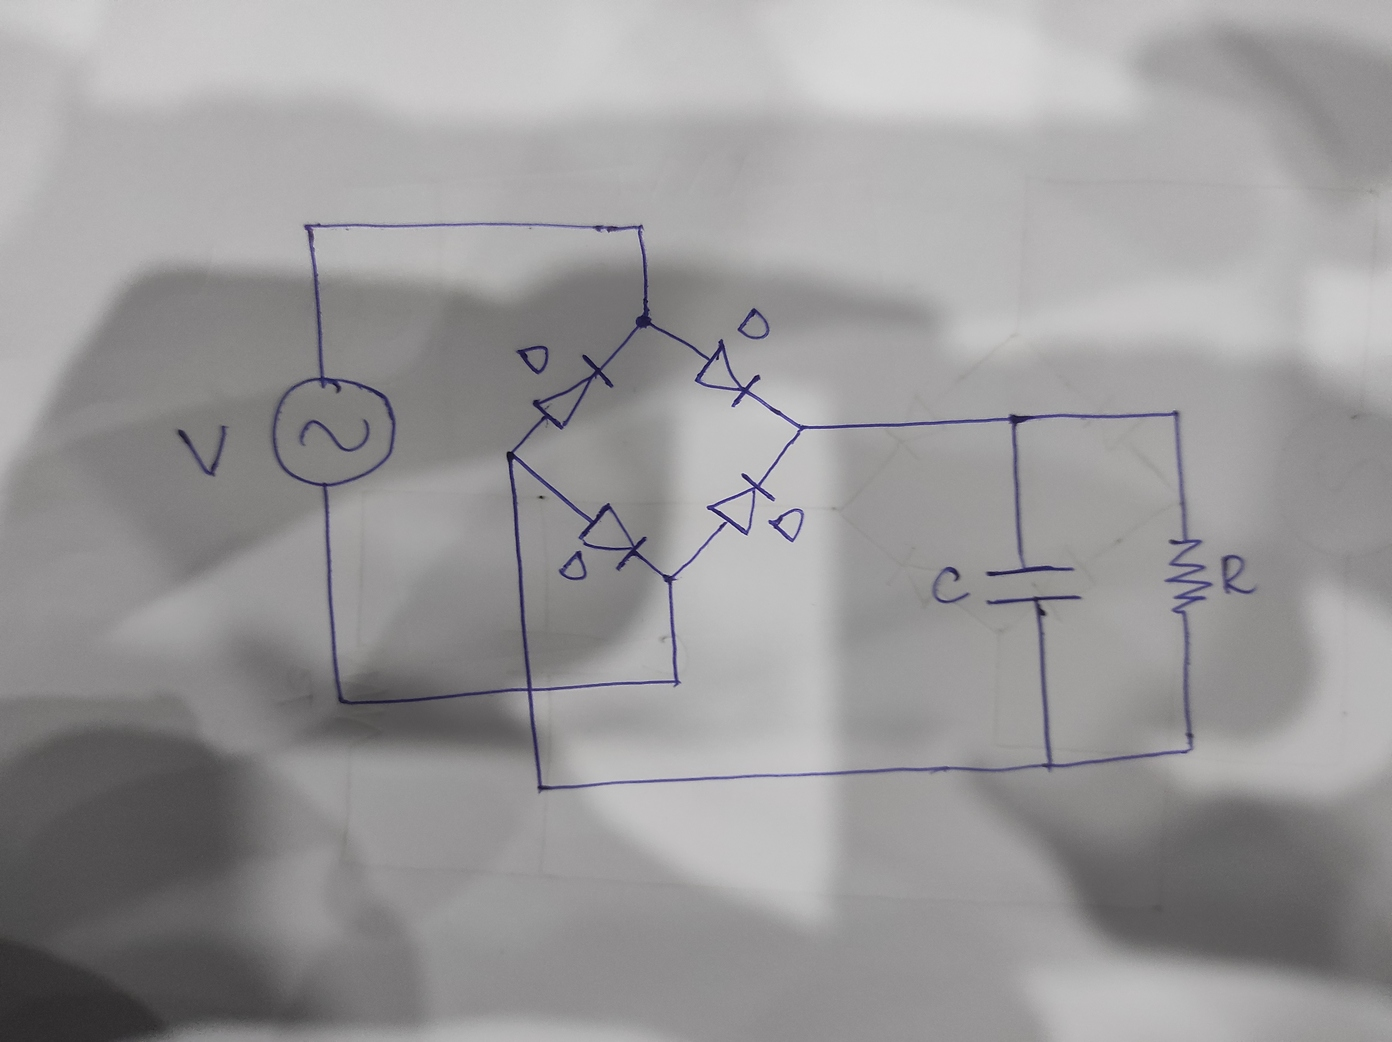capacitor.unpolarized: (982, 561, 1084, 610)
crossover: (520, 679, 541, 697)
diode: (527, 350, 616, 432), (577, 499, 649, 574), (691, 337, 764, 409), (704, 470, 780, 537)
junction: (622, 215, 656, 244), (628, 308, 657, 334), (500, 441, 523, 467), (1004, 408, 1026, 432), (658, 568, 682, 590), (333, 692, 358, 713), (299, 219, 326, 238), (1179, 737, 1199, 759), (531, 777, 552, 799), (787, 420, 810, 440), (1036, 756, 1062, 774), (665, 671, 686, 691), (1165, 404, 1186, 421)
resistor: (1160, 535, 1216, 617)
text: (175, 422, 231, 478), (929, 561, 973, 607), (1219, 551, 1258, 600), (766, 506, 810, 547), (513, 341, 552, 377), (735, 306, 772, 343), (556, 549, 588, 582)
voltage.dc_ac: (269, 370, 401, 488)
